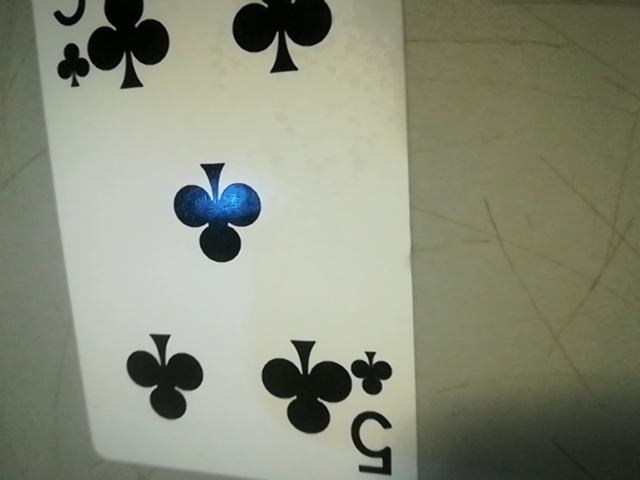mh 5: (341, 342, 411, 480)
